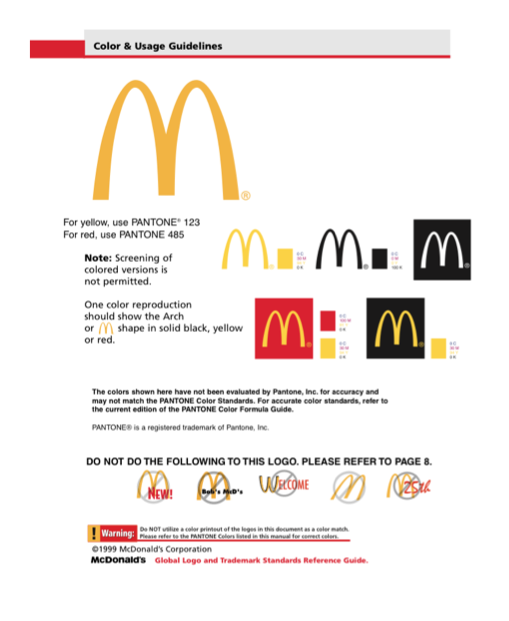mcdonalds: (97, 79, 238, 200), (220, 218, 275, 270), (415, 226, 469, 272), (262, 307, 311, 351), (368, 305, 420, 346), (314, 225, 364, 267)
